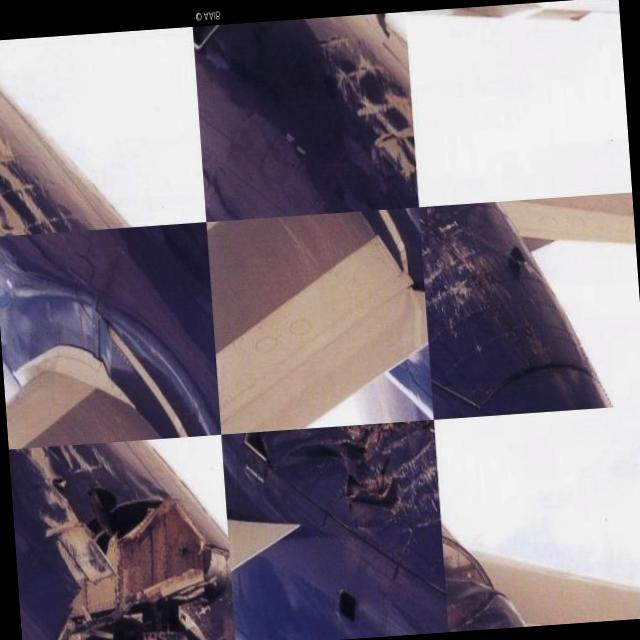crack: (47, 481, 231, 640)
dent: (271, 423, 408, 518)
